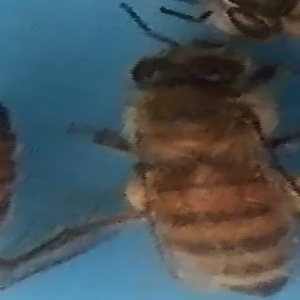bee: (115, 44, 300, 295)
